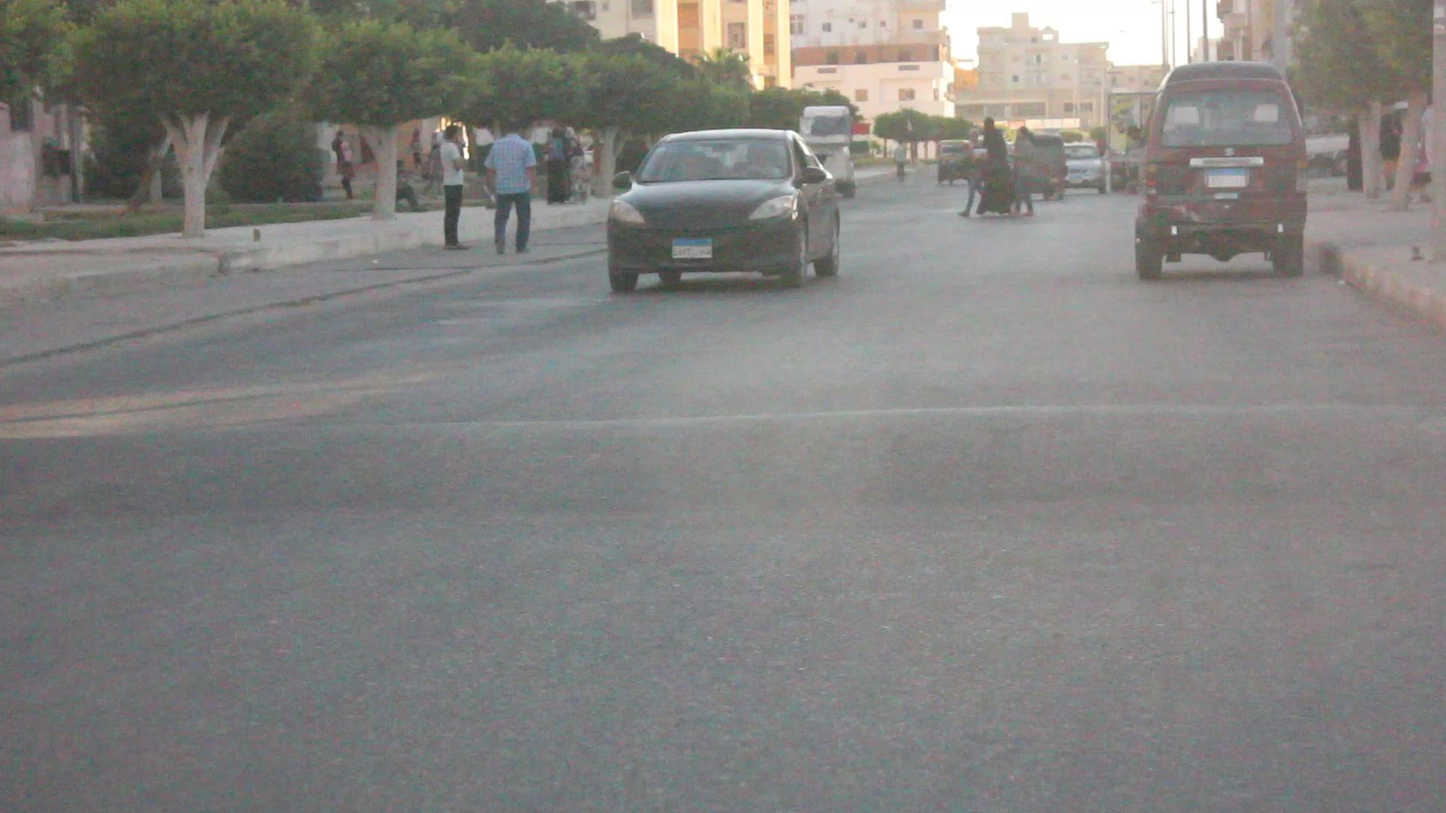Bump: (0, 399, 1446, 521)
